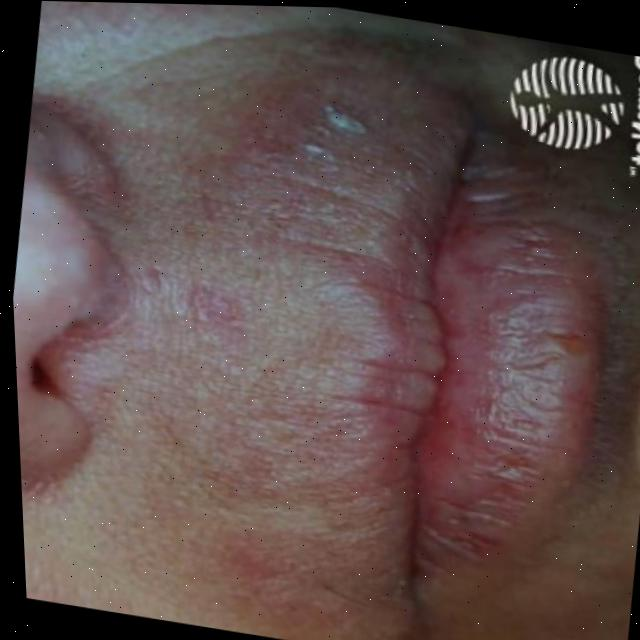Eczema: (114, 6, 568, 587)
